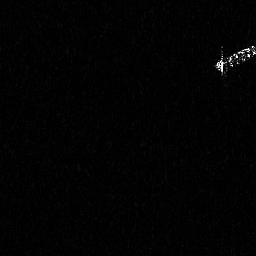ship: (216, 41, 256, 79)
